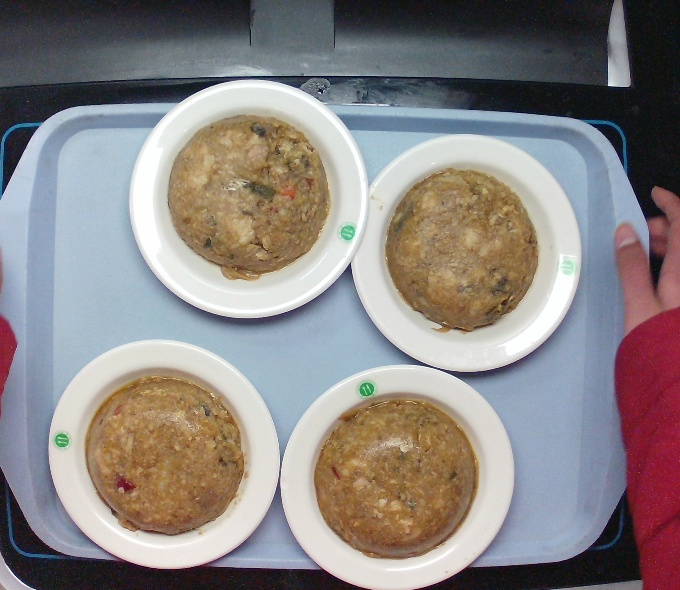wcq-YuDong: (161, 104, 338, 287), (303, 392, 488, 565), (378, 161, 549, 339), (82, 365, 249, 539)
